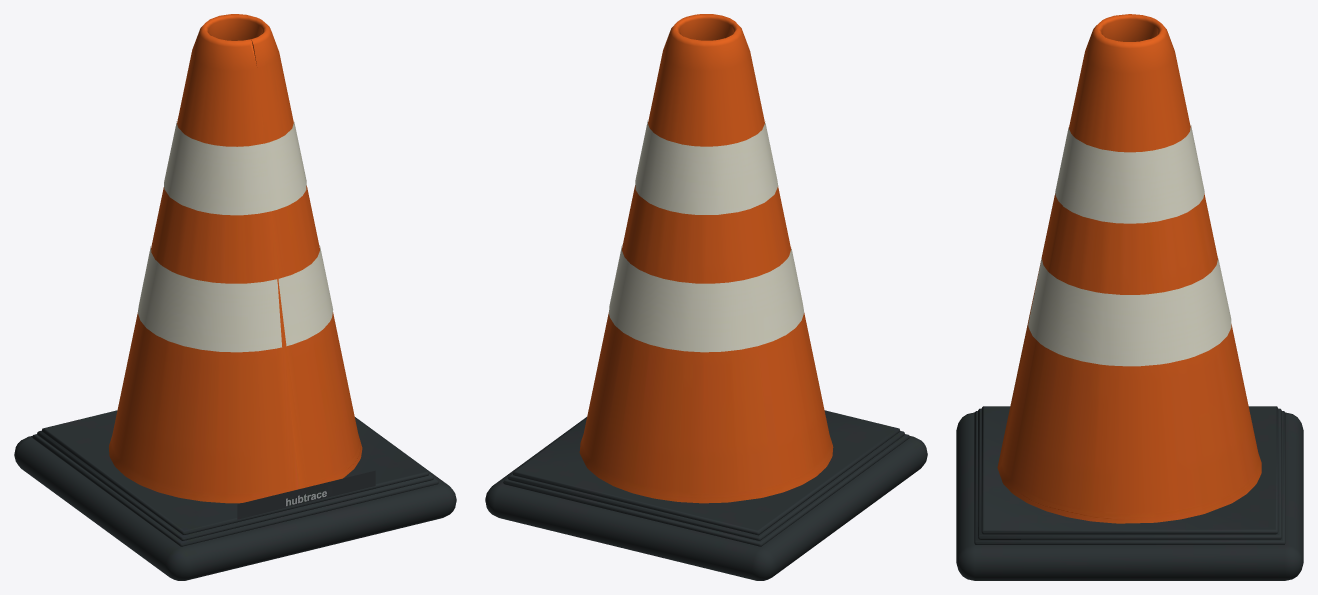
File: traffic-cone.glb
3 renders of one model, left to right at view 1: azimuth 30°, elevation 25°; view 2: azimuth 150°, elevation 25°; view 3: azimuth 270°, elevation 25°, orthographic. The views are drawn at different scales.
Parts seen in each view (by area): view 1: traffic-cone_powdercoat-_df5b16, traffic-cone_moulded-graphite, traffic-cone_reflective-collar, traffic-cone_moulded-brand-ink; view 2: traffic-cone_powdercoat-_df5b16, traffic-cone_moulded-graphite, traffic-cone_reflective-collar; view 3: traffic-cone_powdercoat-_df5b16, traffic-cone_moulded-graphite, traffic-cone_reflective-collar.
Part boxes in pixels (bbox=[...]): traffic-cone_powdercoat-_df5b16: bbox=[109, 14, 362, 503]; traffic-cone_moulded-graphite: bbox=[14, 410, 456, 580]; traffic-cone_reflective-collar: bbox=[137, 119, 333, 352]; traffic-cone_moulded-brand-ink: bbox=[237, 470, 375, 519]; traffic-cone_powdercoat-_df5b16: bbox=[579, 14, 833, 503]; traffic-cone_moulded-graphite: bbox=[485, 410, 927, 580]; traffic-cone_reflective-collar: bbox=[609, 120, 804, 352]; traffic-cone_powdercoat-_df5b16: bbox=[997, 14, 1261, 523]; traffic-cone_moulded-graphite: bbox=[956, 406, 1303, 580]; traffic-cone_reflective-collar: bbox=[1028, 125, 1231, 366].
Size of the model in its own units: 0.48 by 0.74 by 0.48.
Materials: 4 (4 with a texture image).
